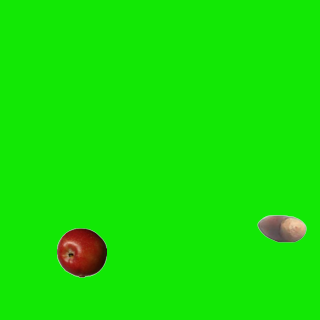Apple Braeburn: (56, 227, 106, 277)
Hazelnut: (256, 203, 306, 253)
